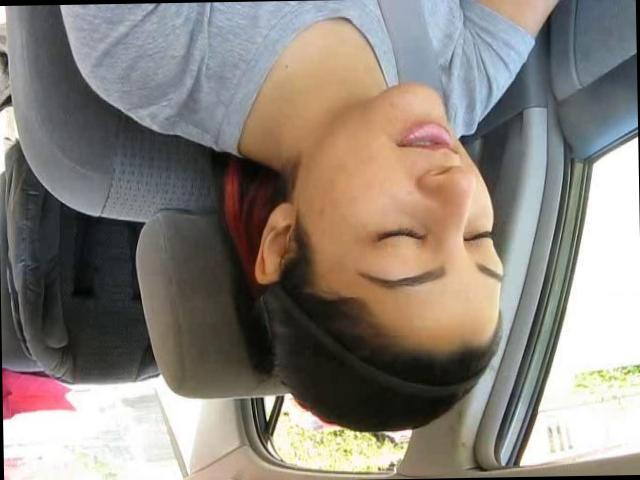eye_closed: (368, 218, 436, 255), (462, 223, 497, 252)
face: (317, 78, 505, 314)
